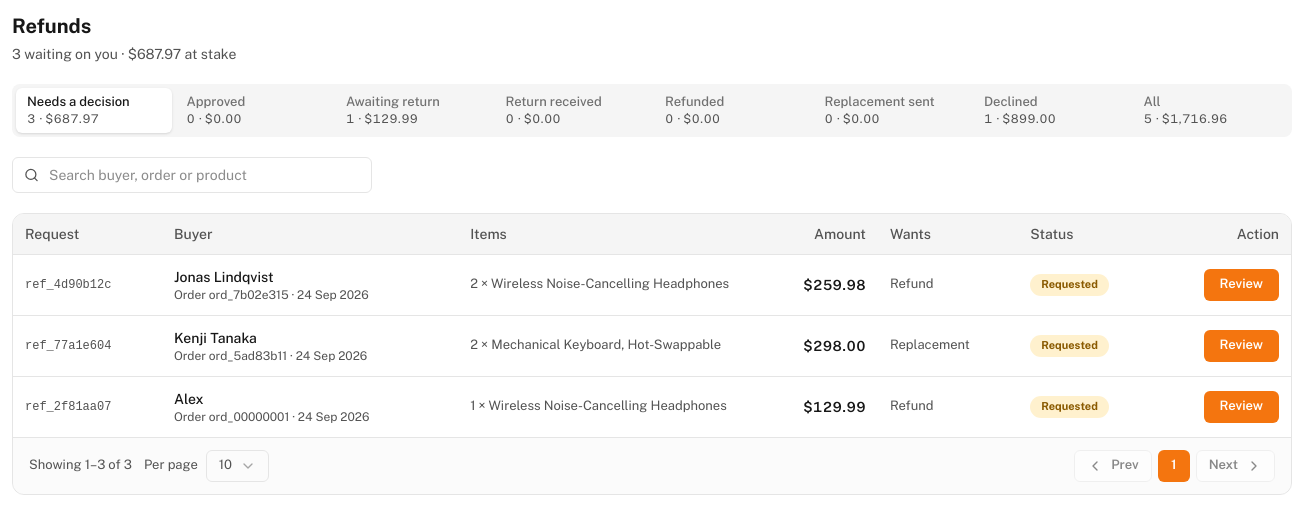
Scenario: SellerRefunds › switches tab to the requests awaiting a return
Expected: the text "ref_4d90b12c" is shown, 13,254 -> 162,315
Click the tab "Awaiting return 1 · $129.99" at (413, 110), box 335,88 -> 490,133
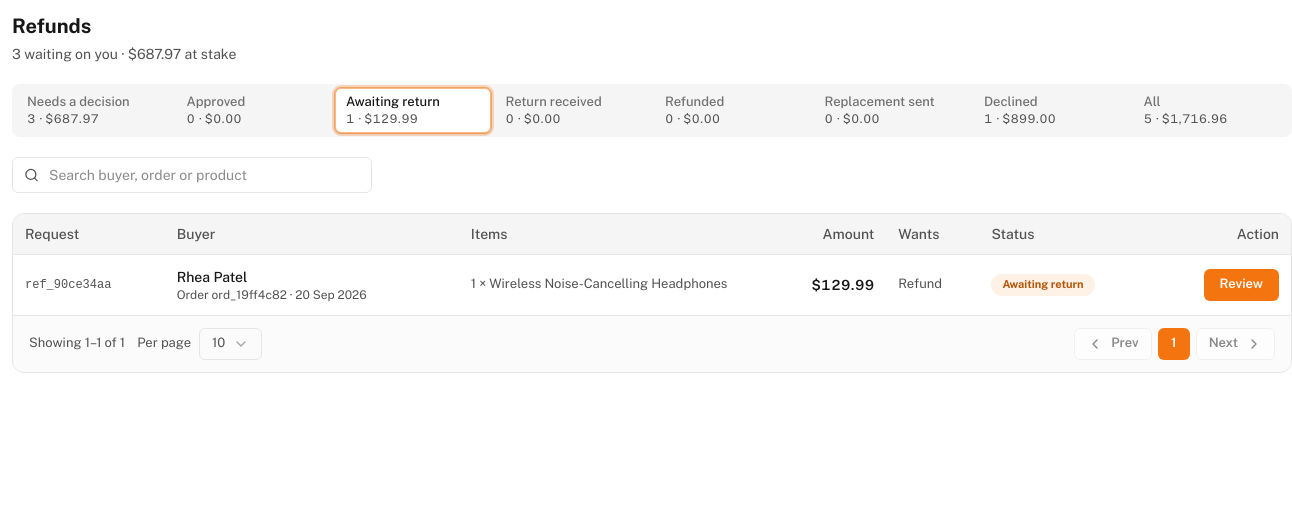
Expected: the text "ref_90ce34aa" is shown, 13,254 -> 165,314
Expected: the text "ref_4d90b12c" is gone
